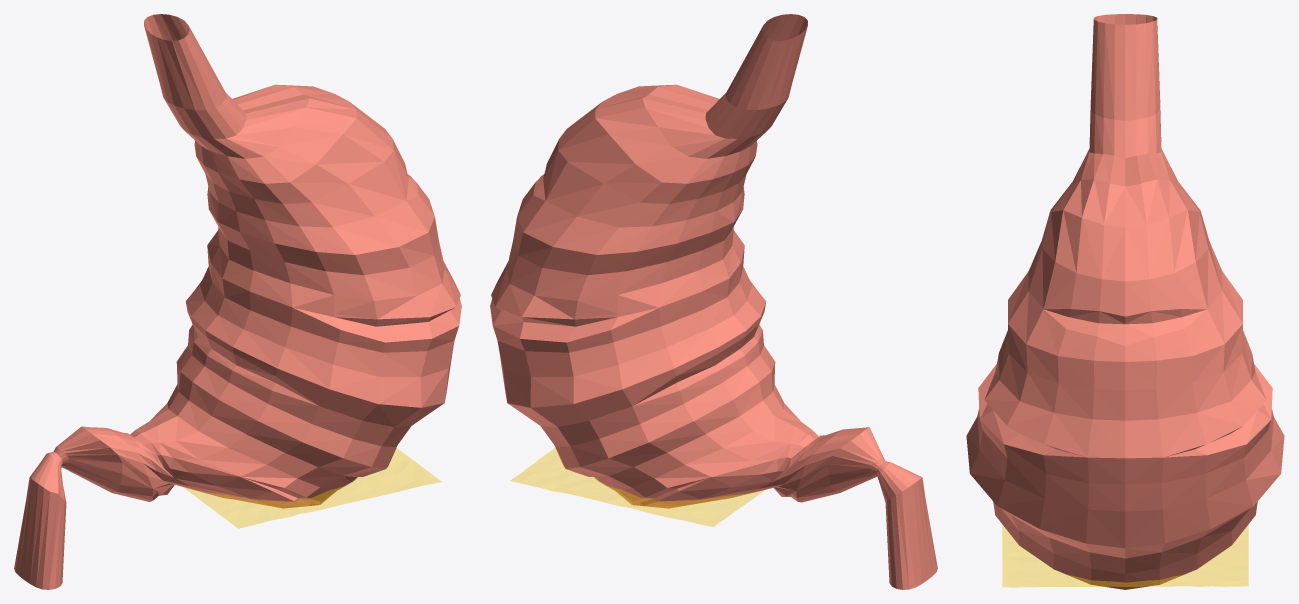
The model's file is Stomac_internal.fbx.
3 views of the same model, side by side, from view 1: azimuth 30°, elevation 25°; view 2: azimuth 150°, elevation 25°; view 3: azimuth 270°, elevation 25° (orthographic).
Visible parts, largest first — view 1: Stomac_internal, gastric; view 2: Stomac_internal, gastric; view 3: Stomac_internal, gastric.
Boxes of the visible parts, x1,y1,x2,y2 form: Stomac_internal: (14,14,461,589); gastric: (183,448,441,528); Stomac_internal: (490,14,937,589); gastric: (510,434,820,526); Stomac_internal: (966,14,1284,589); gastric: (1002,525,1248,587).
Bounding box in the file's own units: 8669 × 10453 × 5731.
